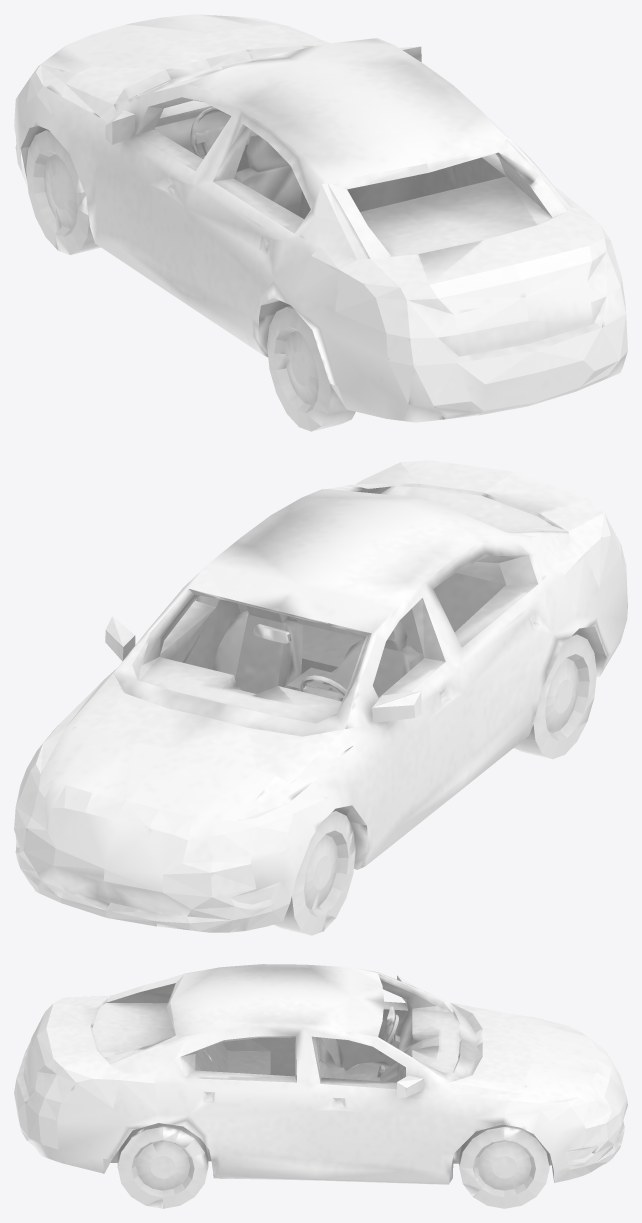
File: Sedan.glb
3 views of the same model, one above another, from view 1: azimuth 30°, elevation 25°; view 2: azimuth 150°, elevation 25°; view 3: azimuth 270°, elevation 25° (orthographic). The views are drawn at different scales.
Visible parts, largest first — view 1: Sedan, Sedan.001; view 2: Sedan, Sedan.001; view 3: Sedan, Sedan.001.
Boxes of the visible parts, x1=… form: Sedan: x1=14, y1=14, x2=627, y2=422; Sedan.001: x1=26, y1=130, x2=355, y2=431; Sedan: x1=14, y1=460, x2=627, y2=932; Sedan.001: x1=274, y1=633, x2=596, y2=935; Sedan: x1=14, y1=964, x2=627, y2=1184; Sedan.001: x1=117, y1=1123, x2=549, y2=1208.
Bounding box in the file's own units: 2.13 × 1.6 × 5.15.
Materials: 1 (1 with a texture image).
